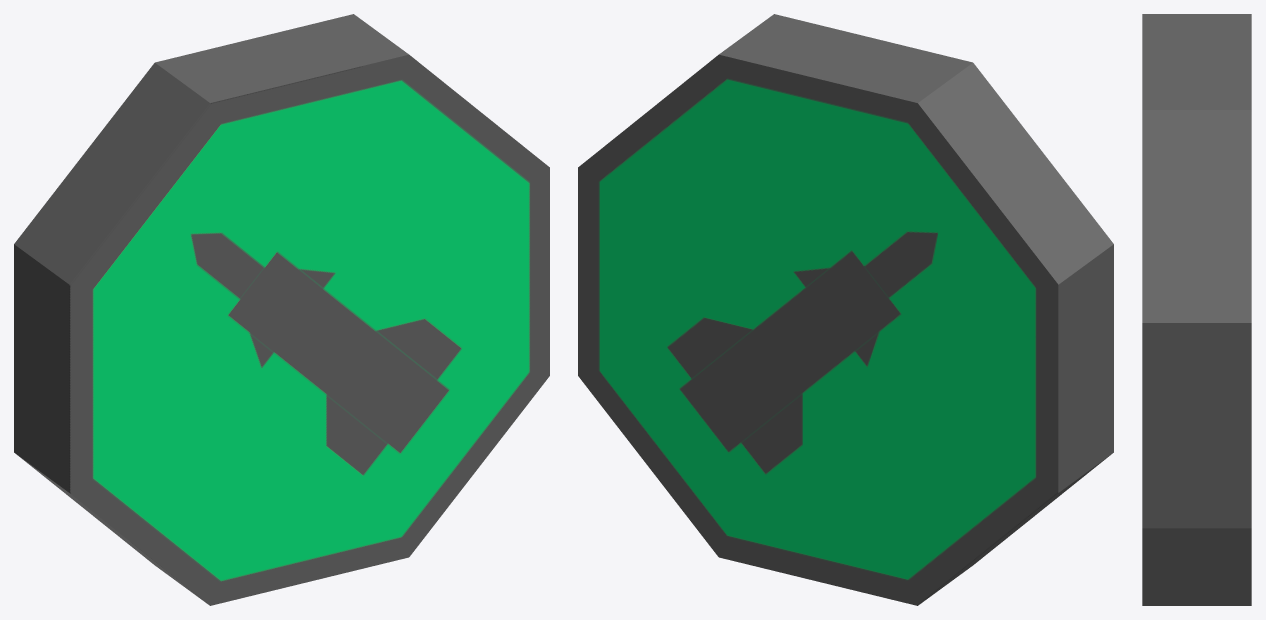
Rendered from Bonus.fbx.
3 renders of one model, left to right at view 1: azimuth 30°, elevation 25°; view 2: azimuth 150°, elevation 25°; view 3: azimuth 270°, elevation 25°, orthographic.
Visible parts, largest first — view 1: path829; view 2: path829; view 3: path829.
Part boxes in pixels (x1=…): path829: x1=14, y1=14, x2=549, y2=605; path829: x1=578, y1=14, x2=1113, y2=605; path829: x1=1142, y1=14, x2=1251, y2=605.
Size of the model in its own units: 50 by 50 by 10.
